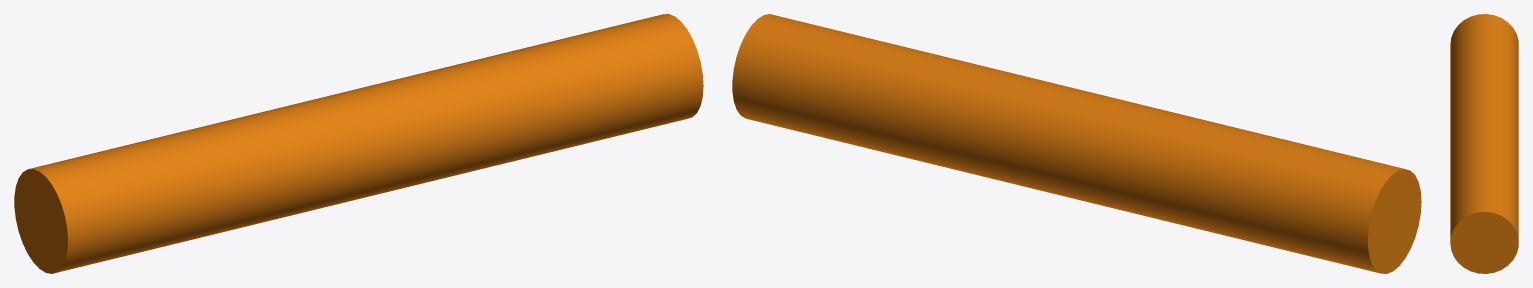
The model's file is Stake_throught_heart_raczka.obj.
3 views of the same model, side by side, from view 1: azimuth 30°, elevation 25°; view 2: azimuth 150°, elevation 25°; view 3: azimuth 270°, elevation 25° (orthographic). The views are drawn at different scales.
Visible parts, largest first — view 1: Bryła2; view 2: Bryła2; view 3: Bryła2.
Boxes of the visible parts, box(x1,y1,x2,y2) form: Bryła2: box(14, 14, 703, 273); Bryła2: box(732, 14, 1421, 273); Bryła2: box(1450, 14, 1518, 273).
Size of the model in its own units: 173 by 25.36 by 25.31.
